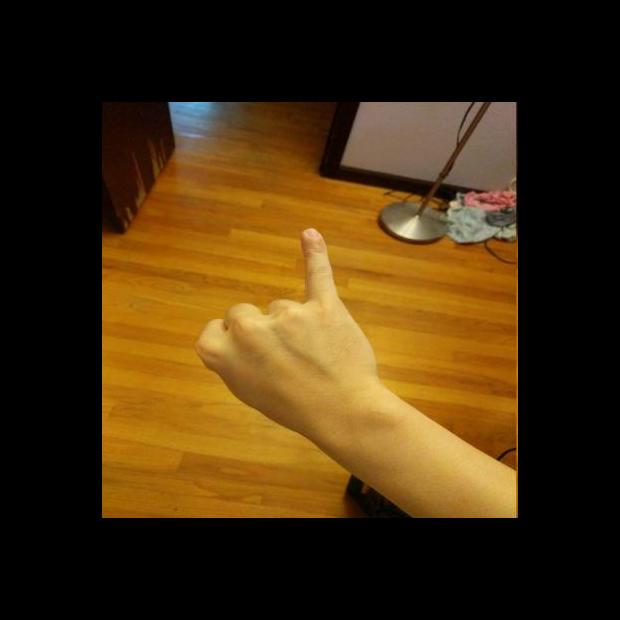H: (190, 225, 386, 430)
